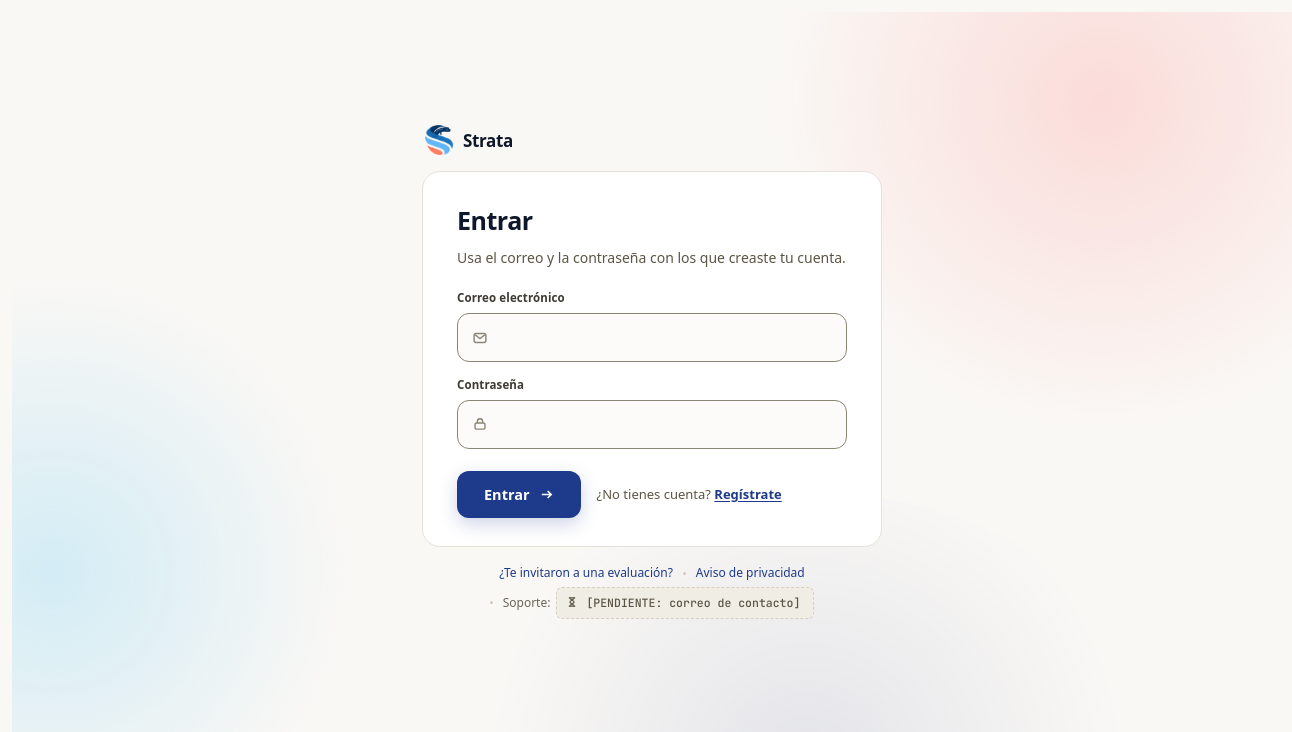
Test: Login › tras entrar vuelve a la ruta de origen si el usuario puede abrirla
Type "ana@empresa.mx" into the field labelled "Correo electrónico". click: (667, 338)
box: x1=488 y1=314 x2=846 y2=361
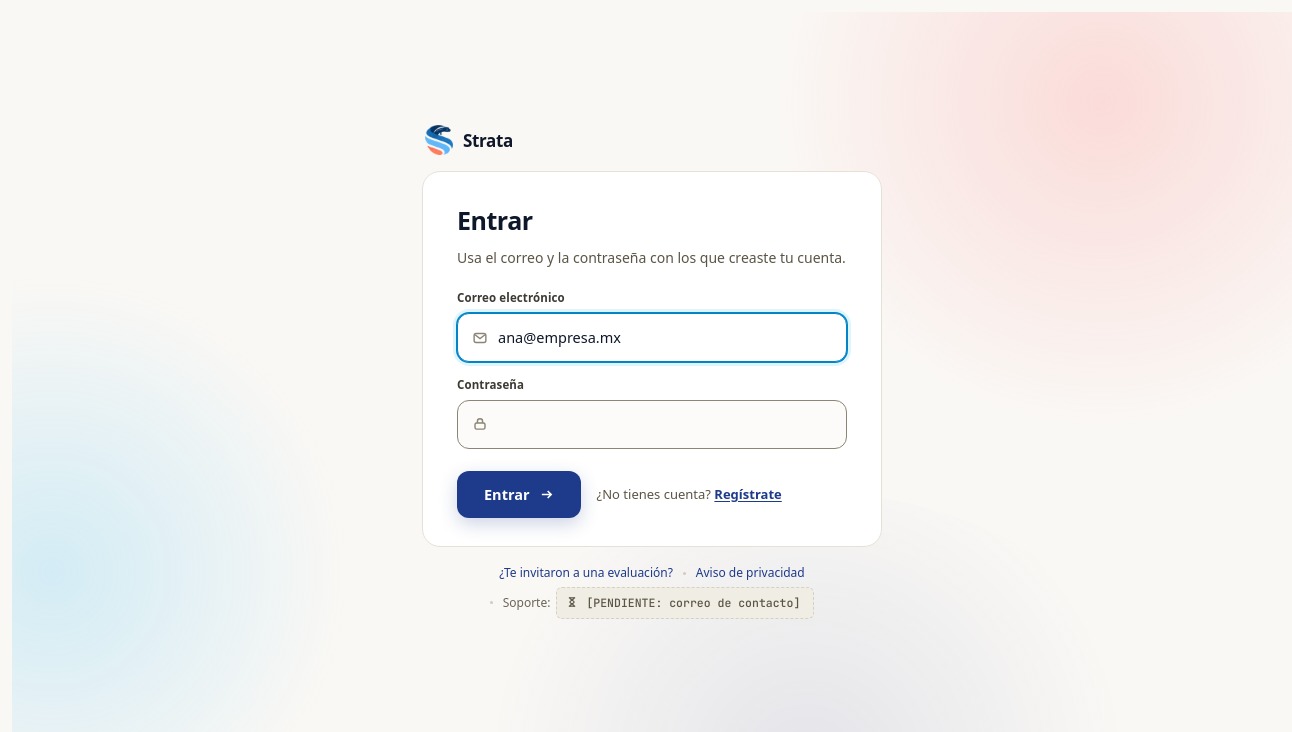
Type "secreta123" into the password field labelled "Contraseña". click: (667, 424)
box: x1=488 y1=401 x2=846 y2=448
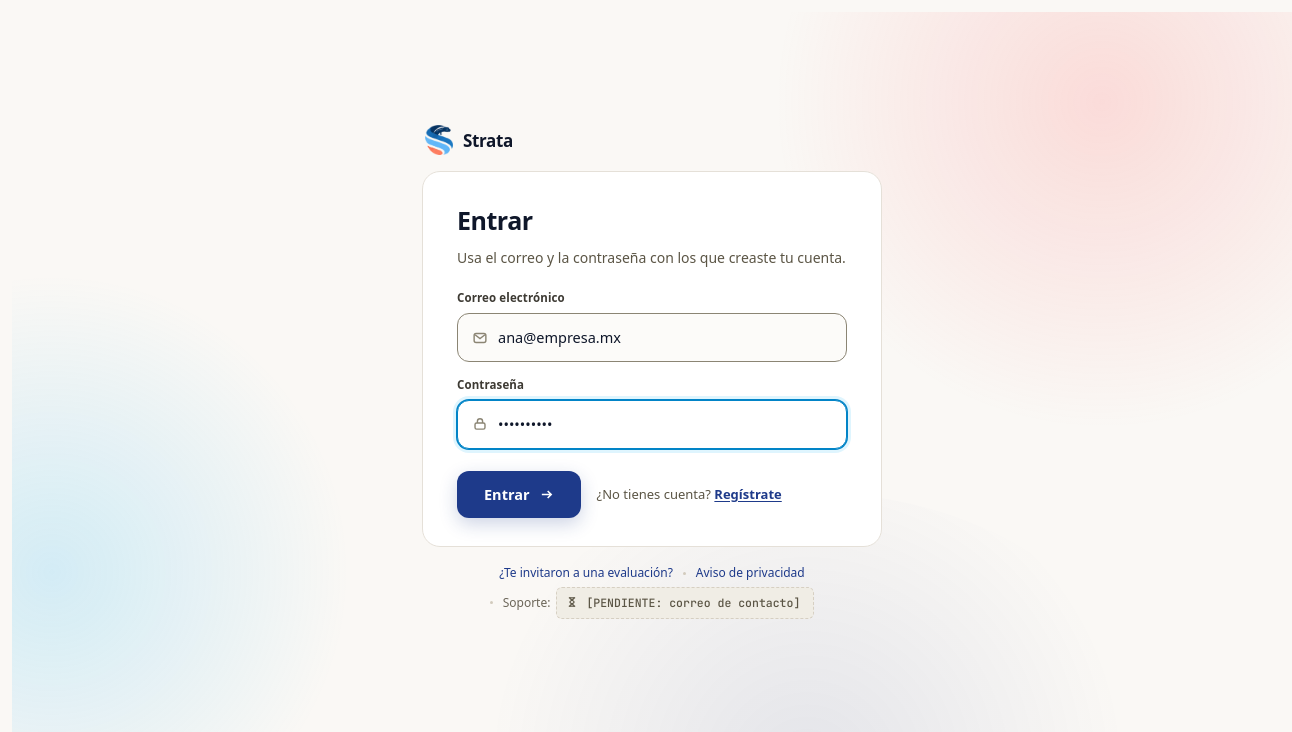
Click the button "Entrar". click: (519, 495)
box: x1=457 y1=471 x2=581 y2=518
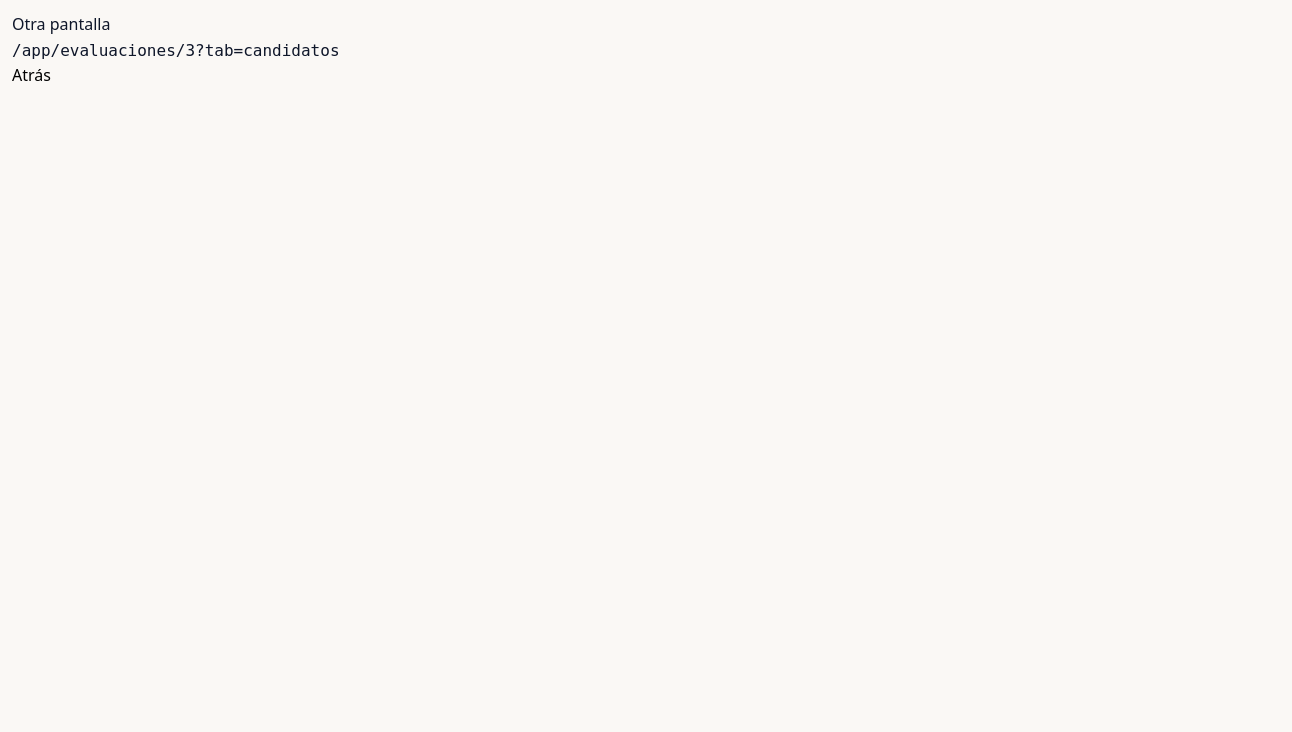
Check: the text "Otra pantalla" is shown, box x1=12 y1=13 x2=110 y2=35
Check: the text with test id "ubicacion" reads "/app/evaluaciones/3?tab=candidatos", box x1=12 y1=41 x2=340 y2=60
